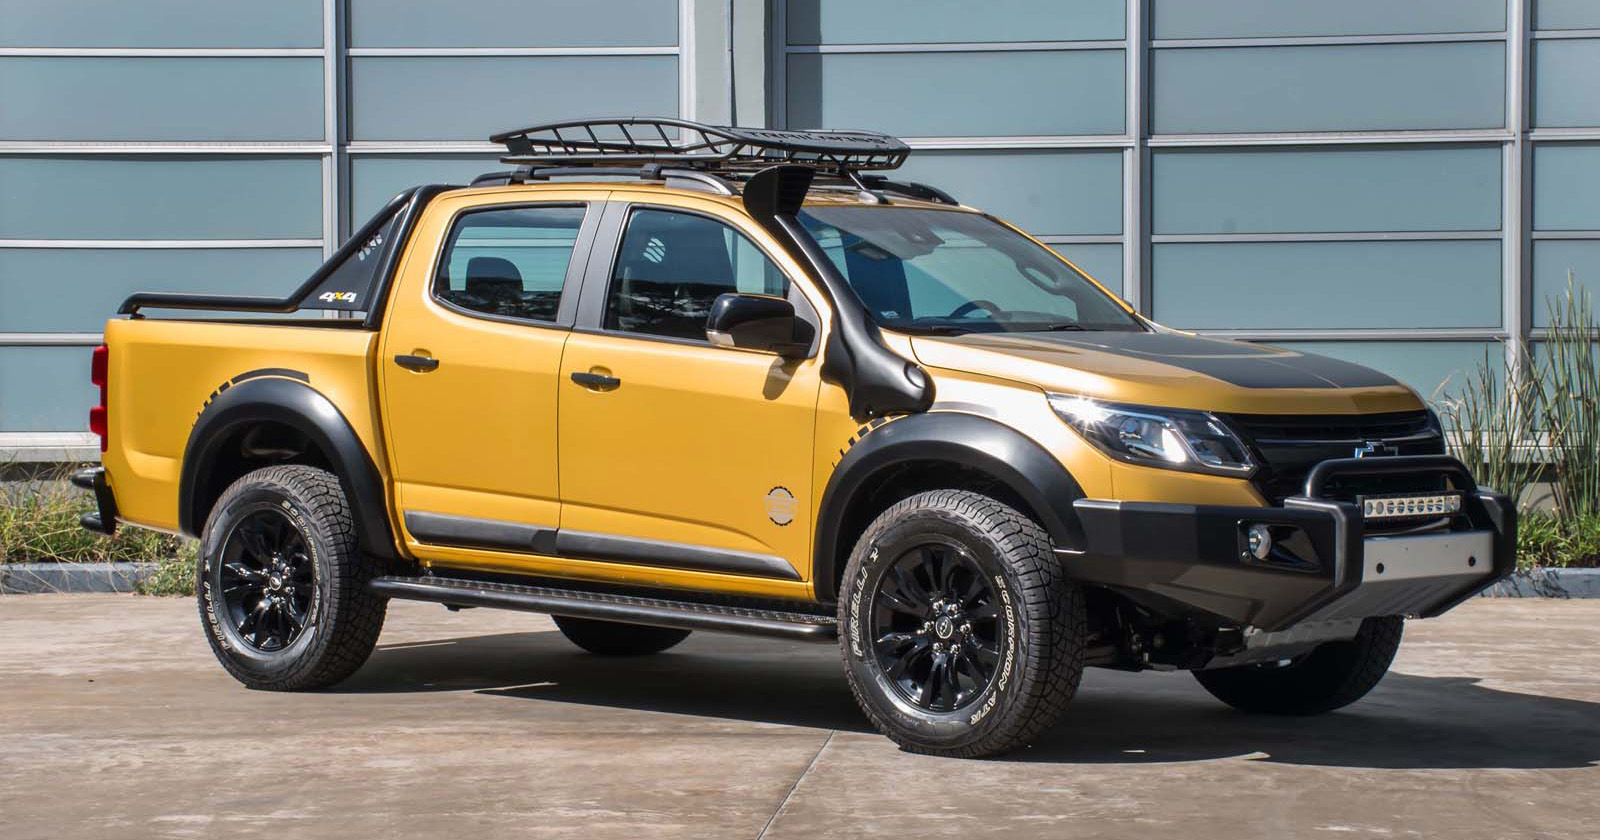pickup: (81, 125, 1519, 760)
